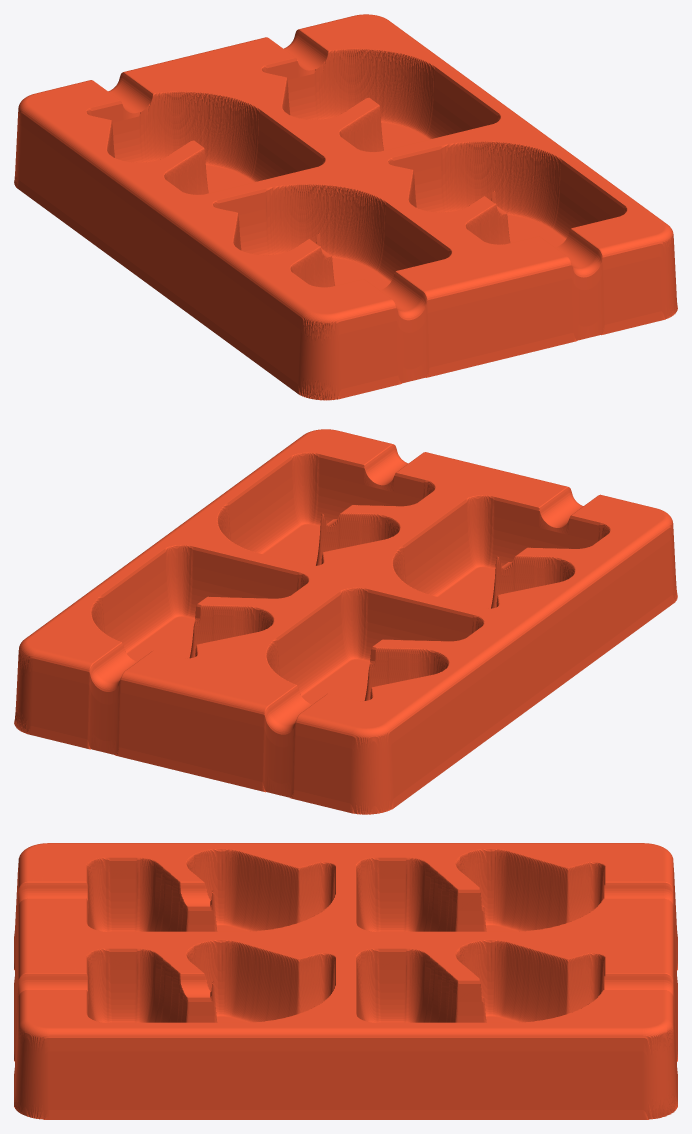
The model's file is mold.glb.
3 views of the same model, one above another, from view 1: azimuth 30°, elevation 25°; view 2: azimuth 150°, elevation 25°; view 3: azimuth 270°, elevation 25° (orthographic). The views are drawn at different scales.
Parts seen in each view (by area): view 1: geometry_0; view 2: geometry_0; view 3: geometry_0.
Part boxes in pixels (x1=…): geometry_0: x1=14, y1=14, x2=677, y2=400; geometry_0: x1=14, y1=429, x2=677, y2=814; geometry_0: x1=14, y1=843, x2=677, y2=1119.
Bounding box in the file's own units: 0.1192 × 0.0245 × 0.171.
